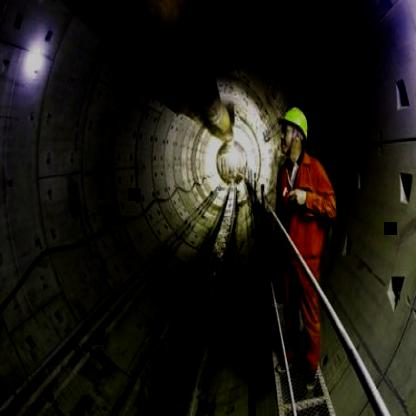helmet: (276, 100, 310, 164)
